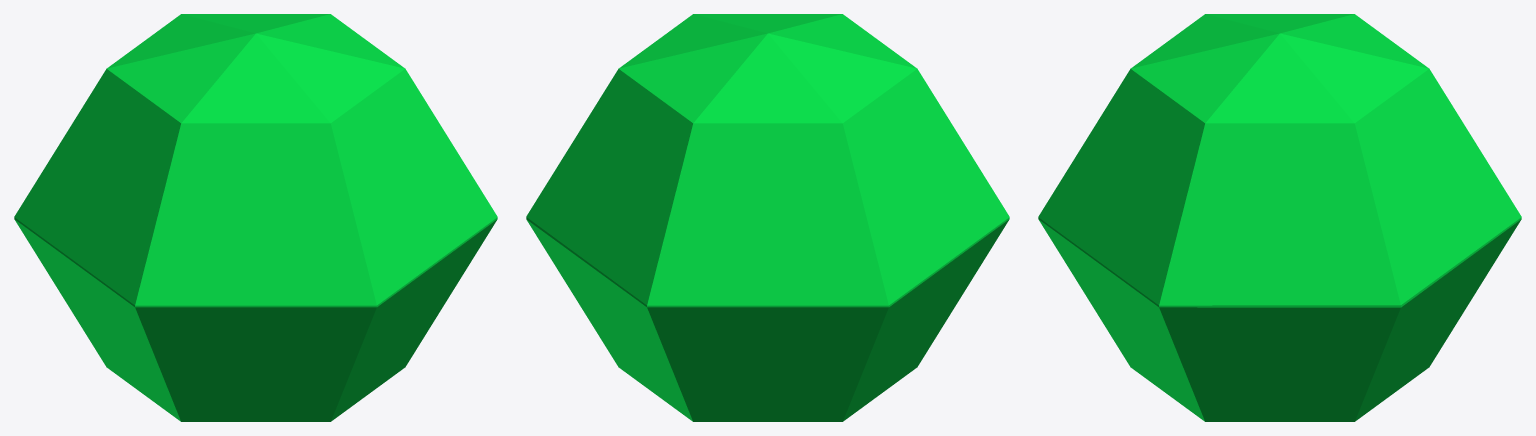
File: green_gem.glb
3 renders of one model, left to right at view 1: azimuth 30°, elevation 25°; view 2: azimuth 150°, elevation 25°; view 3: azimuth 270°, elevation 25°, orthographic.
Visible parts, largest first — view 1: Sphere; view 2: Sphere; view 3: Sphere.
Boxes of the visible parts, x1,y1,x2,y2 form: Sphere: (14, 14, 497, 421); Sphere: (526, 14, 1009, 421); Sphere: (1038, 14, 1521, 421).
Bounding box in the file's own units: 2 × 1.95 × 2.31.
